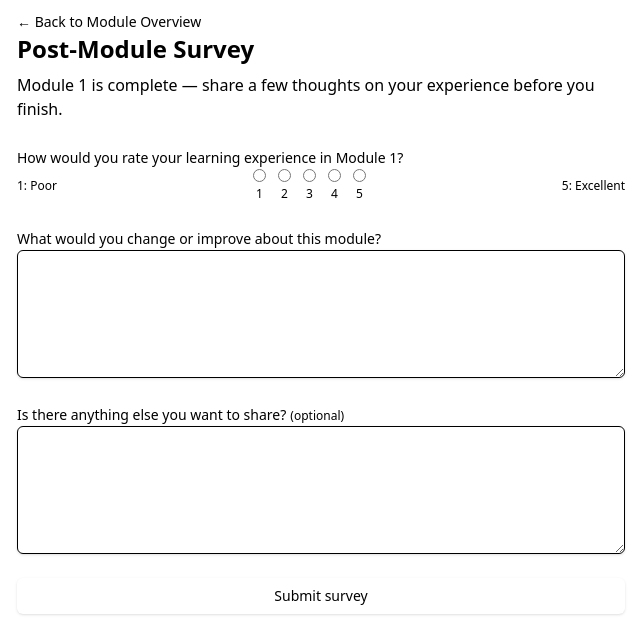
Test case: SurveyPage › shows a graceful "survey unavailable" state when submission comes back 403 (race backstop)
Expected: the heading "Post-Module Survey" is shown, [17,32,254,65]
Click the radio button labelled "5". click: (359, 176)
box: [353,169,366,182]
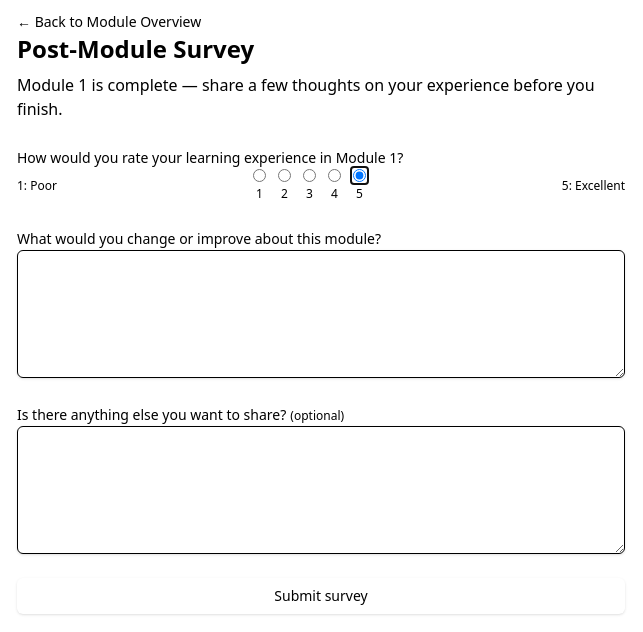
Type "More real-world case studies would help." into the text box labelled "What would you change or improve about this module?". click: (321, 314)
box: [17,250,625,378]
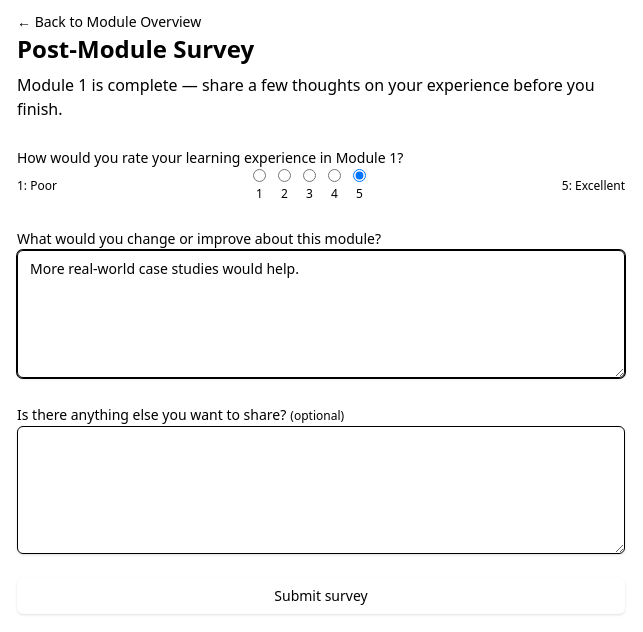
Click the button "Submit survey". click: (321, 596)
box: [17,578,625,614]
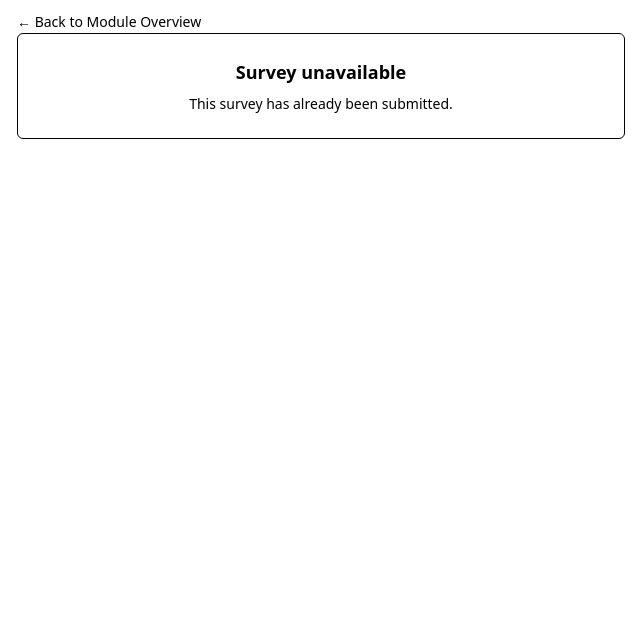
Now the heading "Survey unavailable" is shown, box [236,60,406,84]
Now the text "This survey has already been submitted." is shown, box [189,94,453,113]
